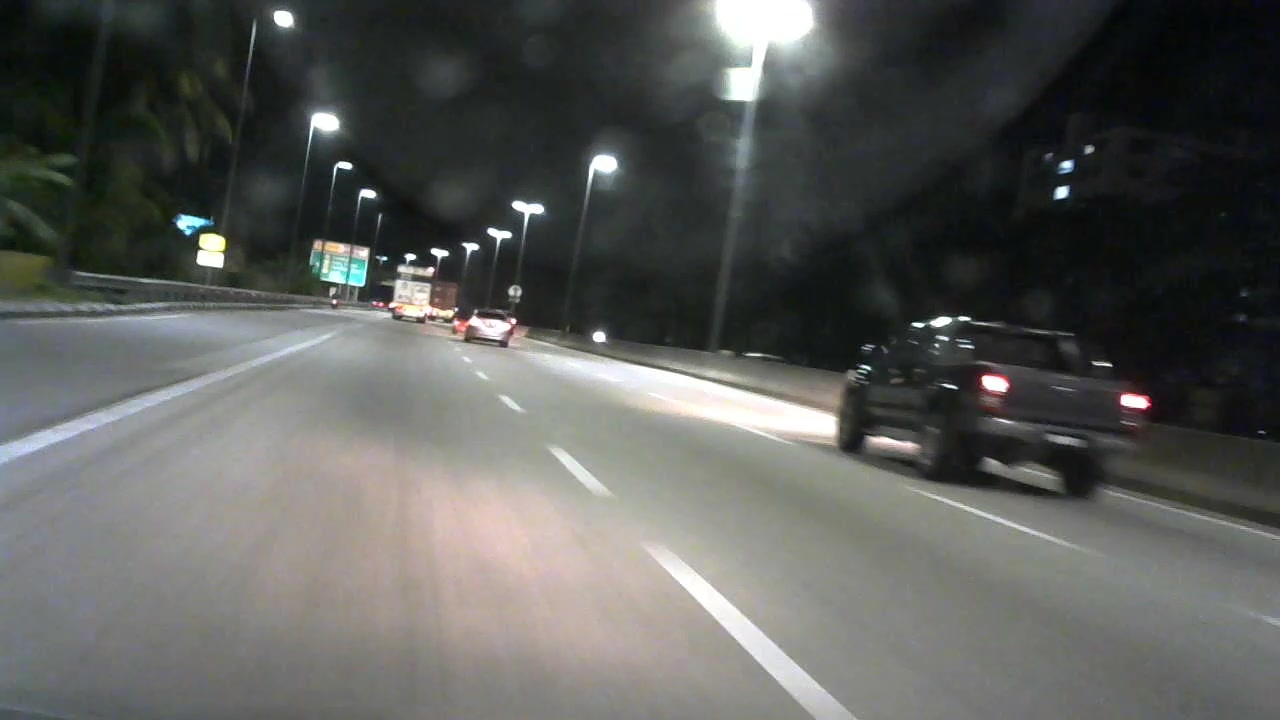Car: (831, 302, 1157, 504), (454, 305, 517, 356)
